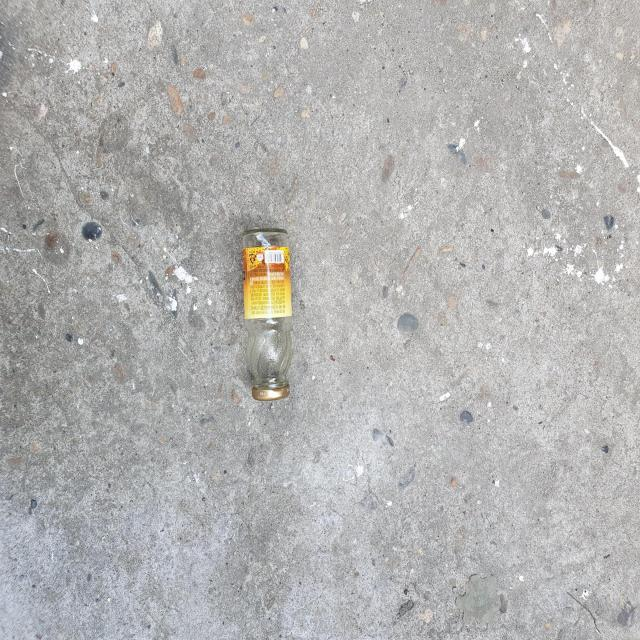glass: (242, 228, 292, 401)
